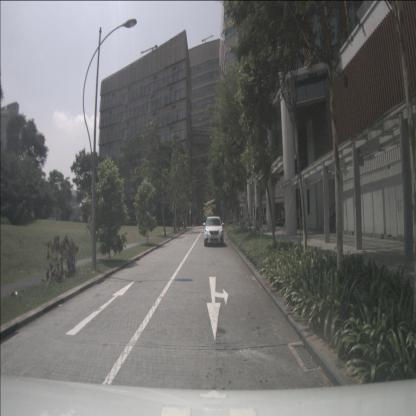human-pedestrian-adult: (256, 203, 259, 231)
vehicle-car: (204, 216, 224, 247)
